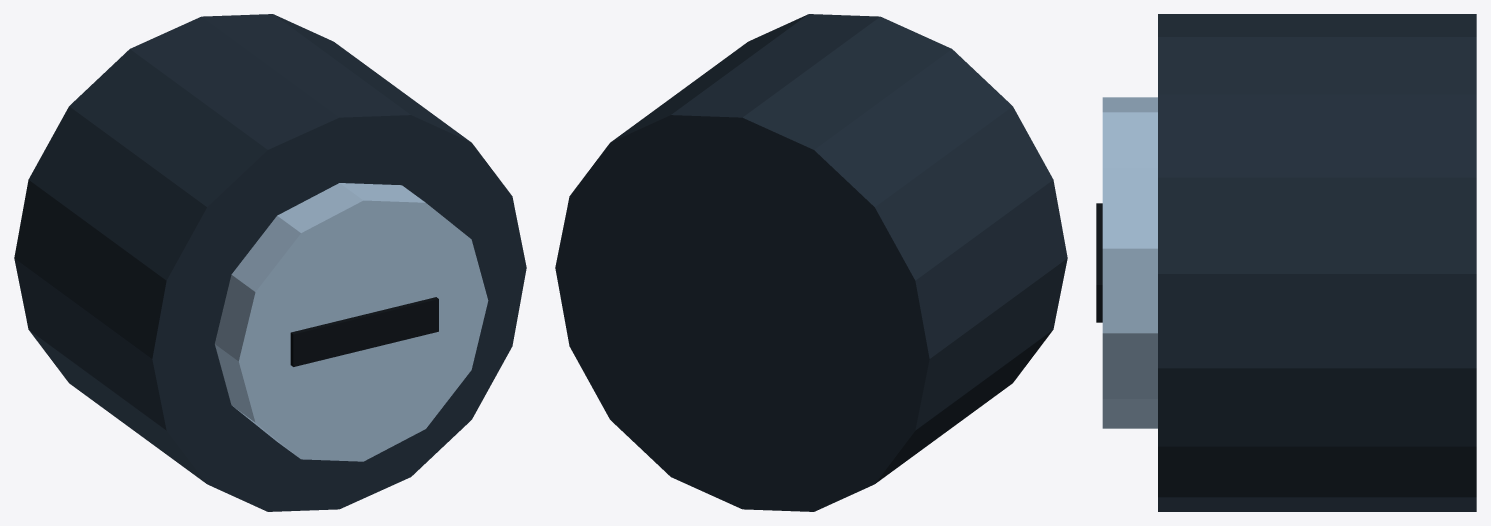
Rendered from PinkingShears_Normal_Pivot.obj.
3 views of the same model, side by side, from view 1: azimuth 30°, elevation 25°; view 2: azimuth 150°, elevation 25°; view 3: azimuth 270°, elevation 25° (orthographic). The views are drawn at different scales.
Visible parts, largest first — view 1: DarkSteel, Steel, Rubber; view 2: DarkSteel; view 3: DarkSteel, Steel, Rubber.
Part boxes in pixels (bbox=[...]): DarkSteel: bbox=[14, 14, 526, 511]; Steel: bbox=[215, 183, 488, 461]; Rubber: bbox=[290, 297, 438, 366]; DarkSteel: bbox=[555, 14, 1067, 511]; DarkSteel: bbox=[1158, 14, 1476, 511]; Steel: bbox=[1102, 97, 1157, 428]; Rubber: bbox=[1096, 203, 1102, 322].
Size of the model in its own units: 0.036 by 0.036 by 0.0274.
